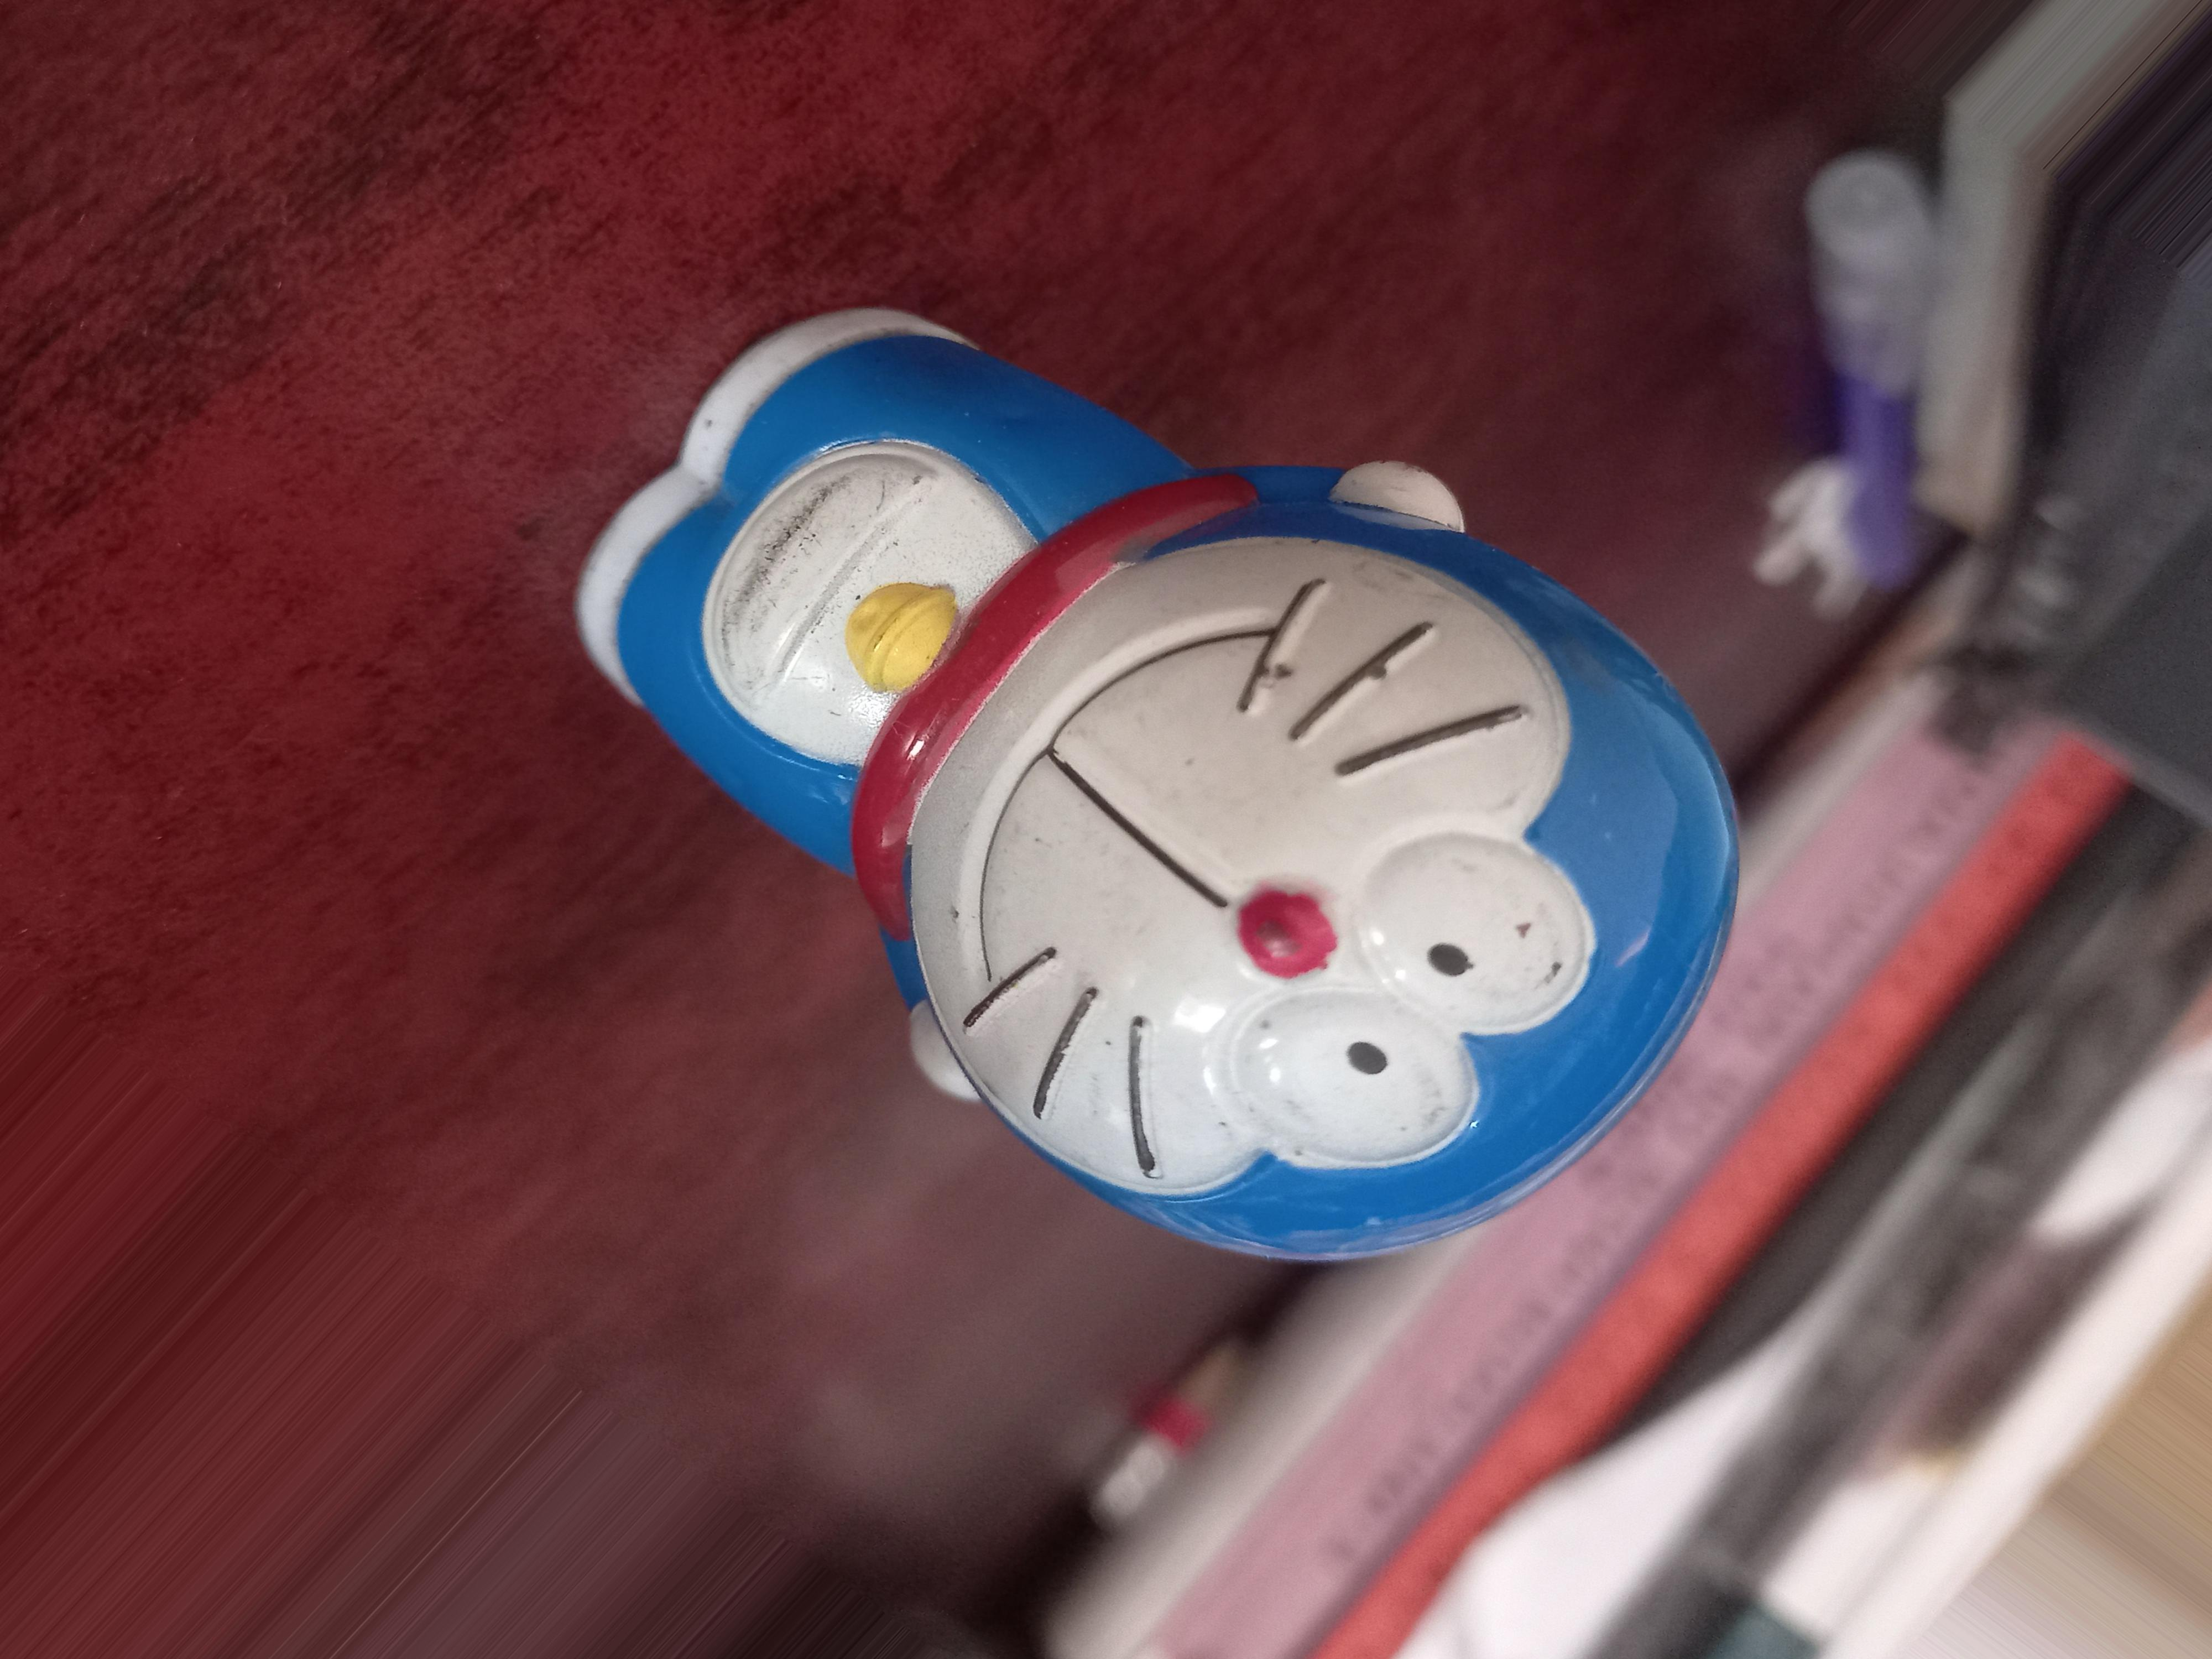doraemon: (681, 474, 1757, 1241)
